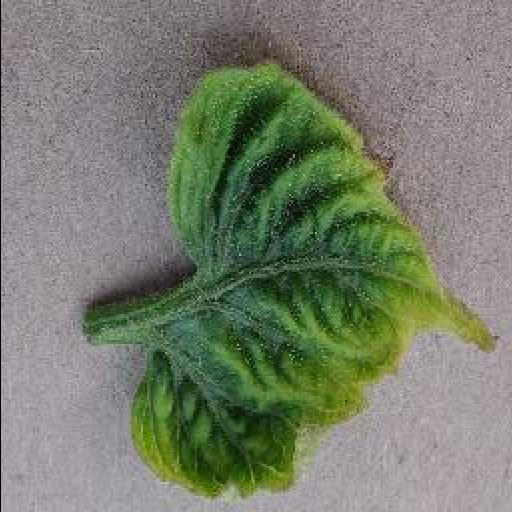disease_tomato: (126, 64, 496, 502)
